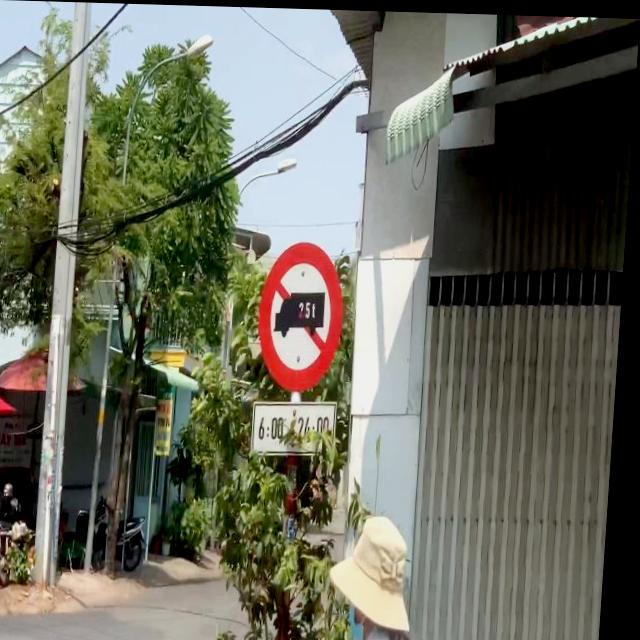Cam xe tai tren 2_5: (258, 237, 352, 393)
